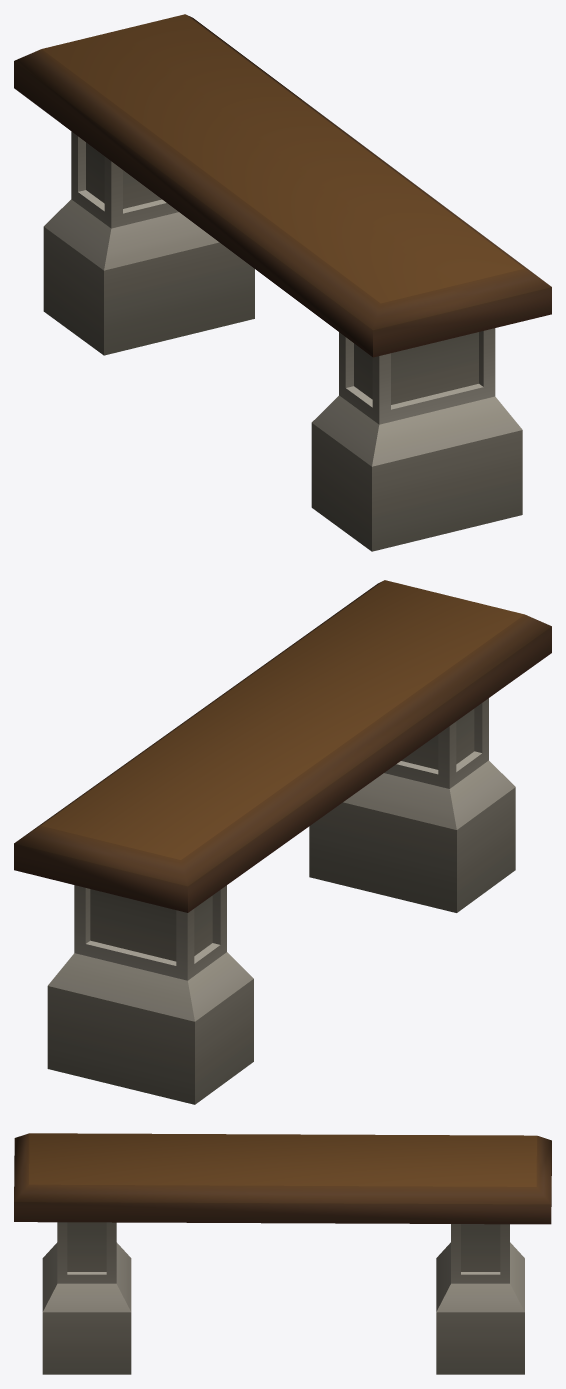
Rendered from Bench_1C.fbx.
3 views of the same model, one above another, from view 1: azimuth 30°, elevation 25°; view 2: azimuth 150°, elevation 25°; view 3: azimuth 270°, elevation 25° (orthographic). The views are drawn at different scales.
Visible parts, largest first — view 1: Bench_1C; view 2: Bench_1C; view 3: Bench_1C.
Boxes of the visible parts, x1,y1,x2,y2 form: Bench_1C: (14,14,551,551); Bench_1C: (14,580,551,1104); Bench_1C: (14,1133,551,1374).
Size of the model in its own units: 79.8 by 105 by 273.
